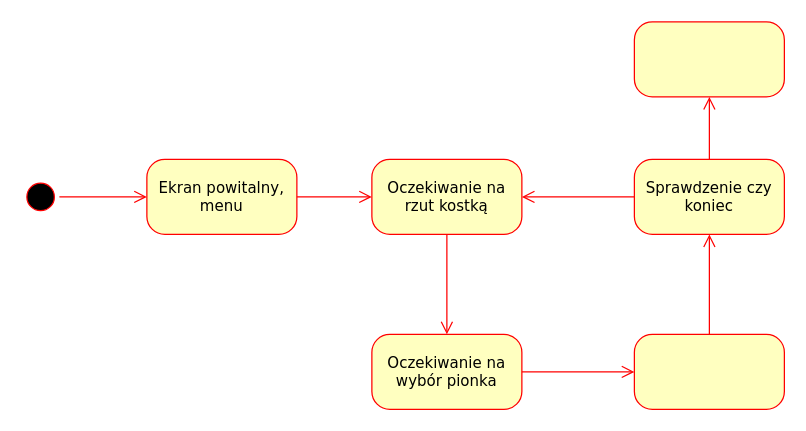
The diagram is 806 pixels wide and 431 high, and some of its shapes have lost their labels. The centre of each missing label's shape, as x and y in pixels:
"Ekran końcowy, wskazany zwycięzca" goes at pixel 708 59.
"Ruch pionka" goes at pixel 708 371.
